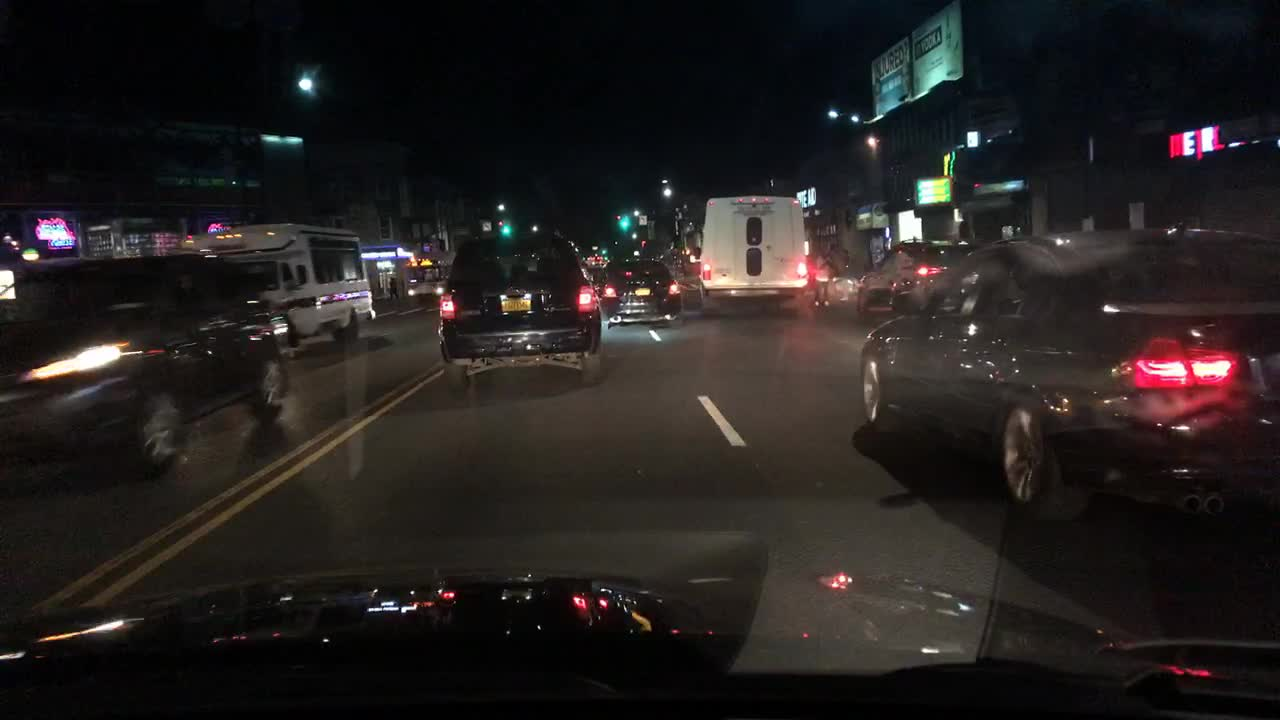car: (858, 224, 1279, 525), (2, 248, 299, 476), (435, 229, 604, 396), (177, 221, 377, 346), (689, 194, 812, 318), (855, 237, 979, 322), (597, 256, 679, 329), (407, 259, 451, 307), (586, 264, 605, 295)
person: (810, 244, 833, 307), (387, 272, 399, 299)
traffic light: (617, 211, 631, 230), (501, 215, 511, 234)
traffic sign: (636, 213, 647, 225)
